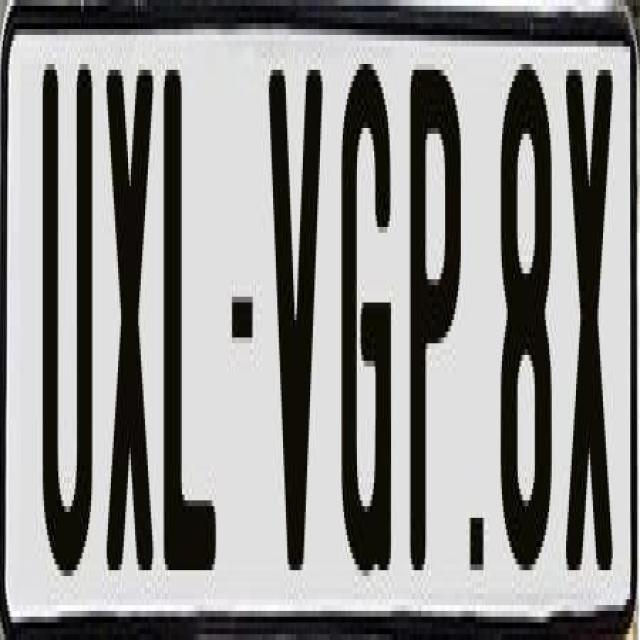8: (499, 58, 556, 594)
G: (338, 63, 397, 600)
L: (162, 70, 219, 594)
P: (410, 63, 468, 564)
U: (40, 64, 90, 588)
V: (264, 64, 328, 588)
X: (564, 64, 616, 576), (106, 70, 156, 588)
